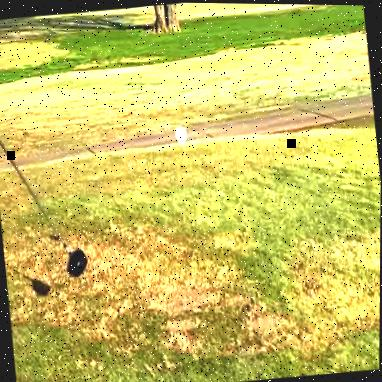ClubHead: (174, 123, 188, 144)
GolfBall: (60, 239, 92, 280)
